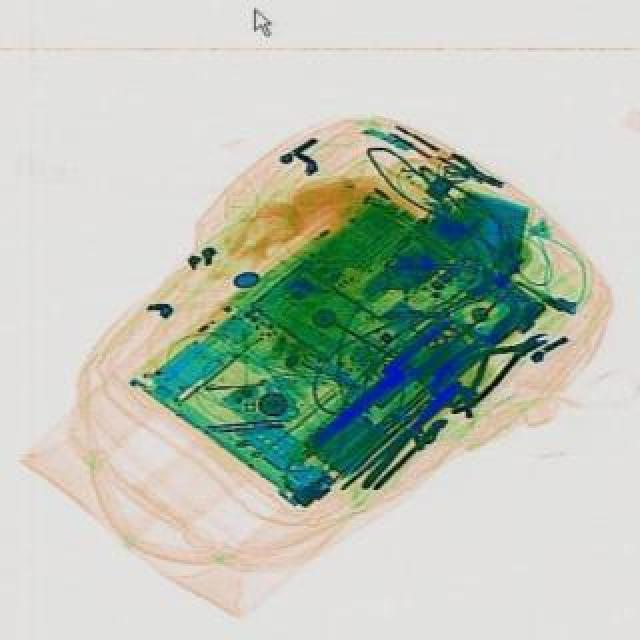wrench: (422, 312, 560, 418)
